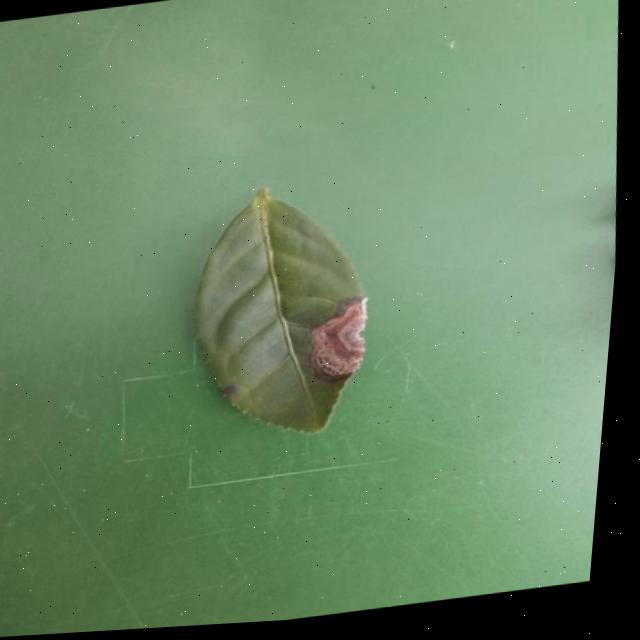Tea cloud leaf blight: (307, 293, 399, 386)
